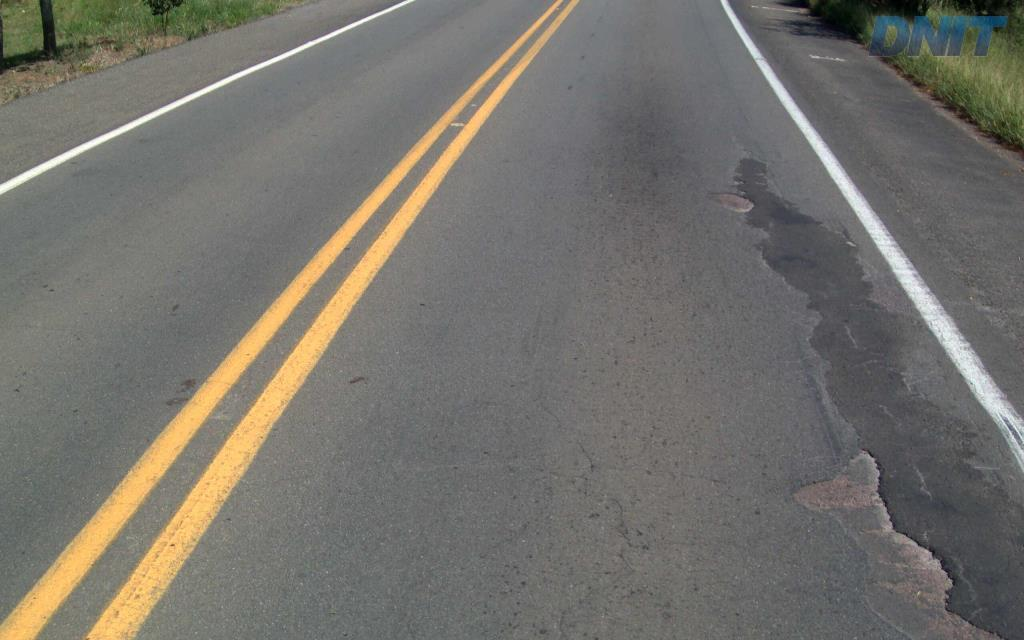pothole: (779, 441, 1020, 638), (697, 181, 761, 216)
